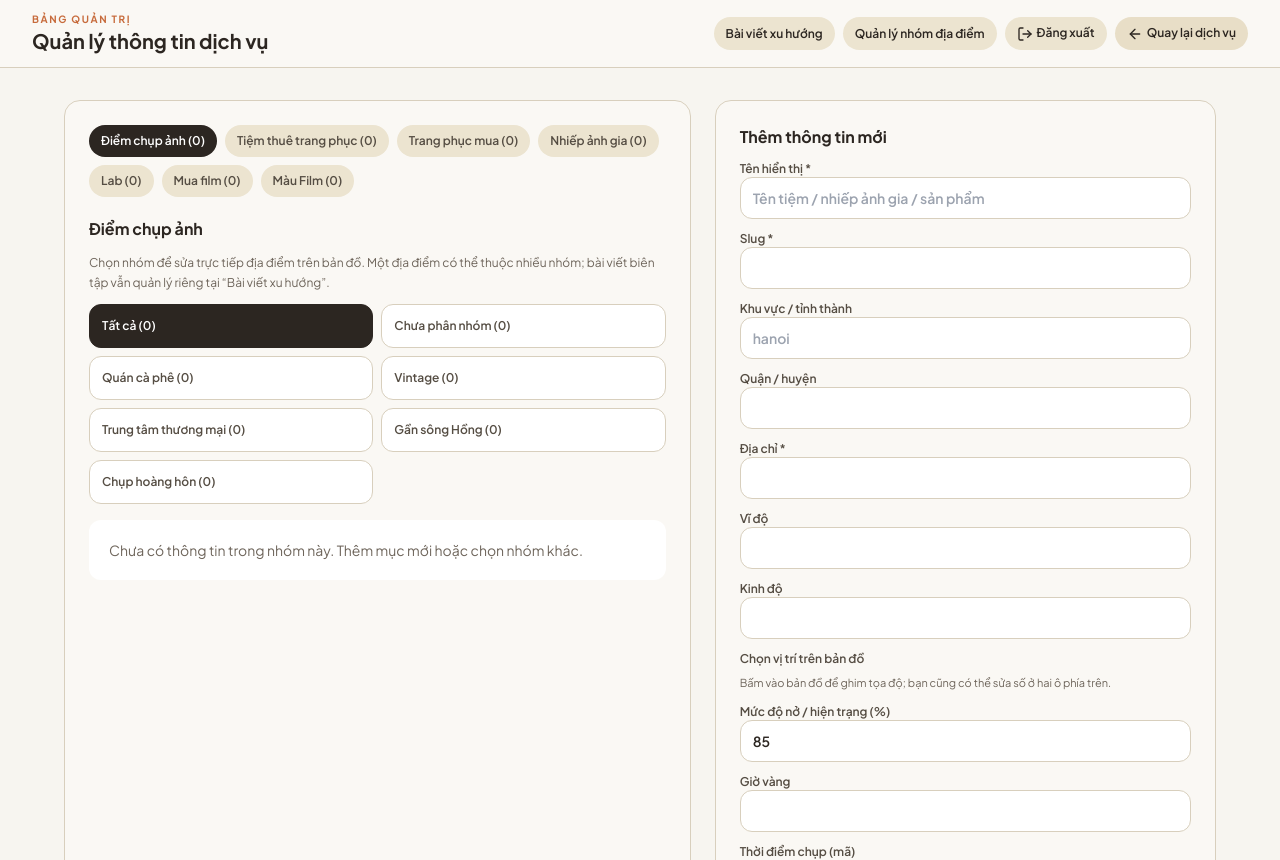
it: opens category configuration from the authenticated admin screen
The image size is (1280, 860).
Click the button "Quản lý nhóm địa điểm". click: [920, 34]
box: [843, 17, 997, 50]
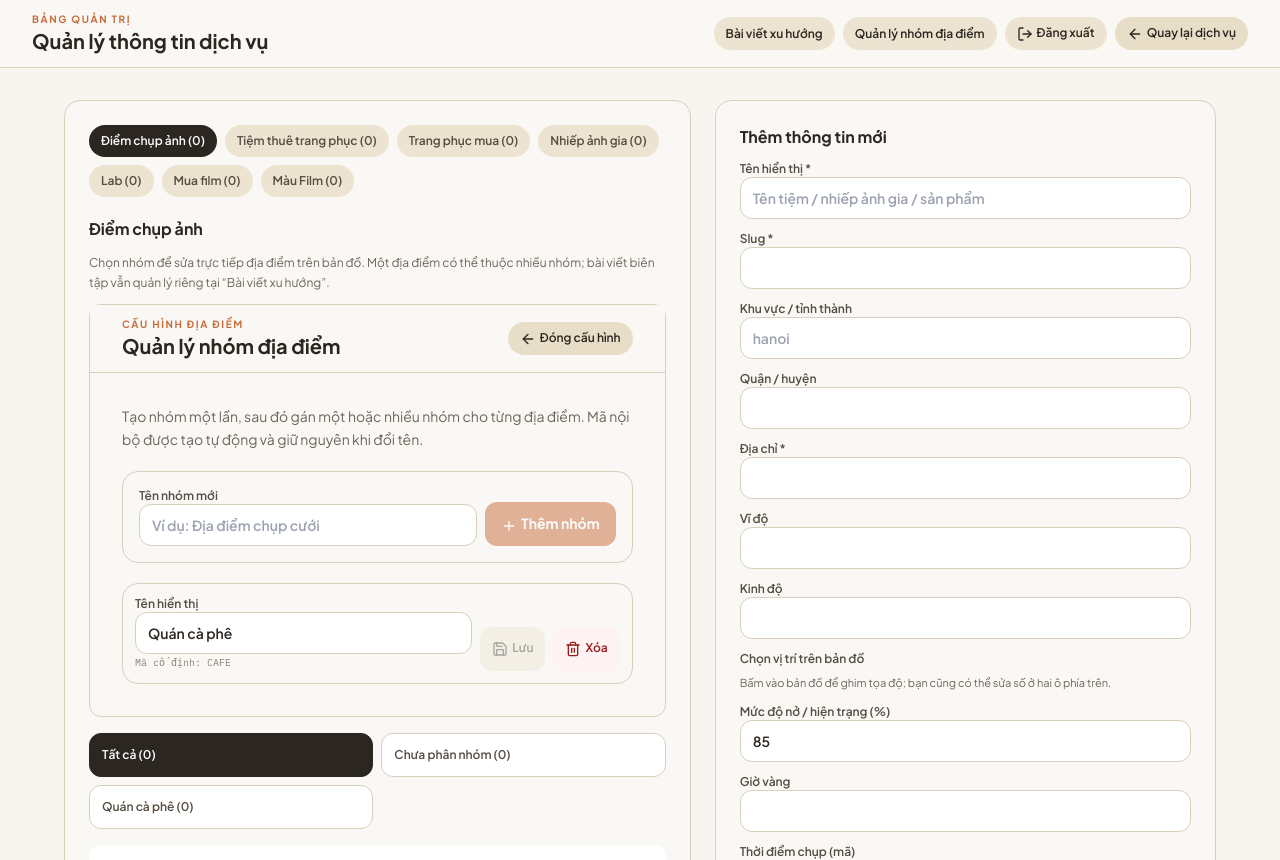
Expected: the heading "Quản lý nhóm địa điểm" is shown, [122, 332, 340, 360]
